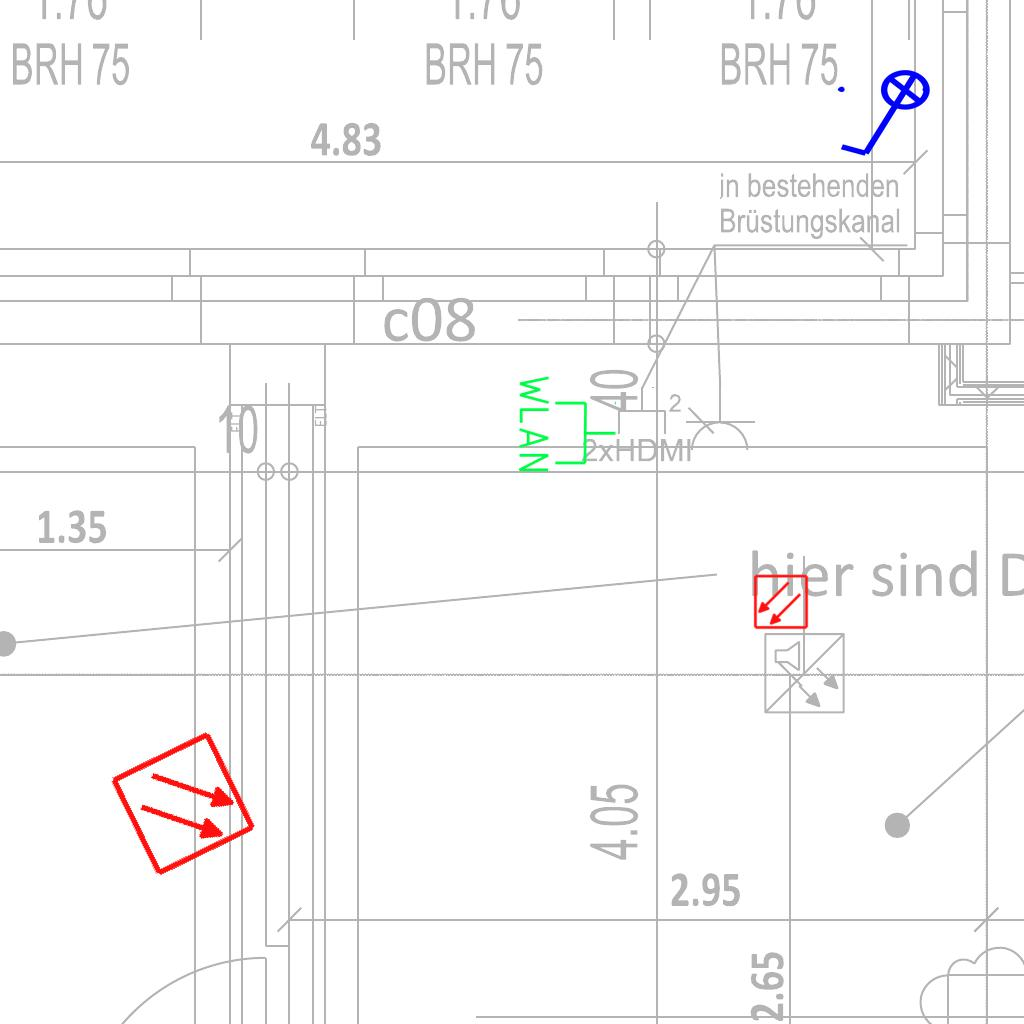Ausschalter_beleuchtet: (832, 68, 944, 164)
RMO_Rauchmelder_optischer: (107, 727, 260, 880), (753, 574, 809, 630)
WLAN: (515, 371, 619, 476)
